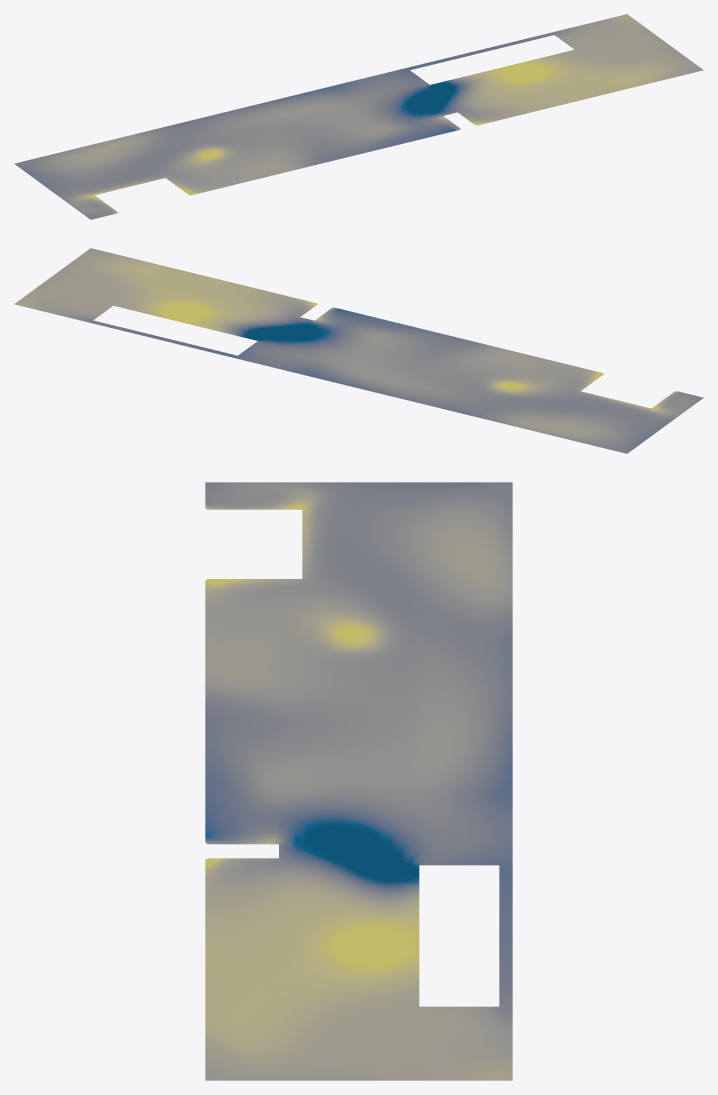
The model's file is fpm_m0_coarse_ke_tr_T_z1.10.glb.
The picture shows the model from 3 angles, top to bottom: view 1: azimuth 30°, elevation 25°; view 2: azimuth 150°, elevation 25°; view 3: azimuth 270°, elevation 25°; orthographic projection. The views are drawn at different scales.
Parts seen in each view (by area): view 1: geometry_0; view 2: geometry_0; view 3: geometry_0.
Part boxes in pixels (box(x1,y1,x2,y2)): geometry_0: box(14, 14, 703, 219); geometry_0: box(14, 248, 703, 453); geometry_0: box(205, 482, 512, 1080).
Size of the model in its own units: 10.77 by 0 by 2.34.
